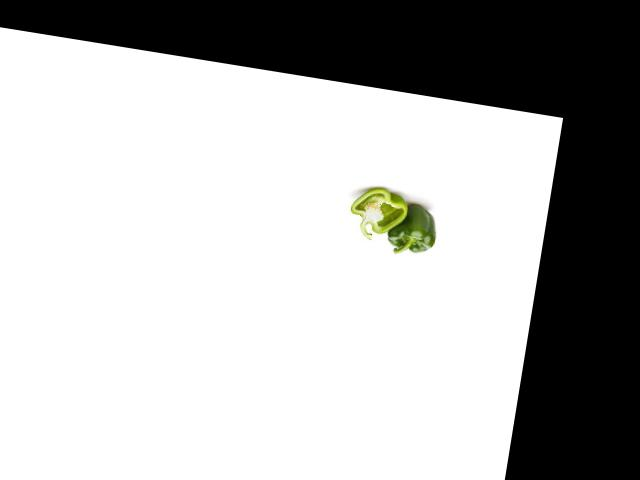bell_pepper: (343, 184, 412, 247)
